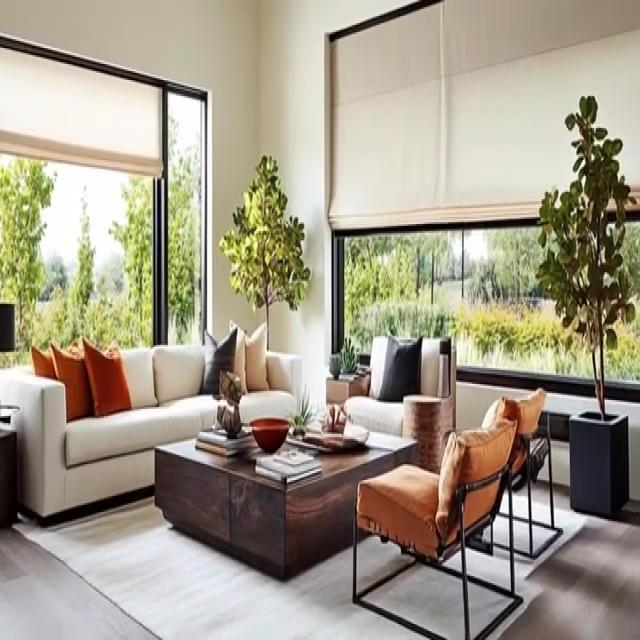obstacle: (0, 332, 302, 526), (153, 418, 418, 581), (356, 424, 526, 640), (342, 332, 456, 473)
